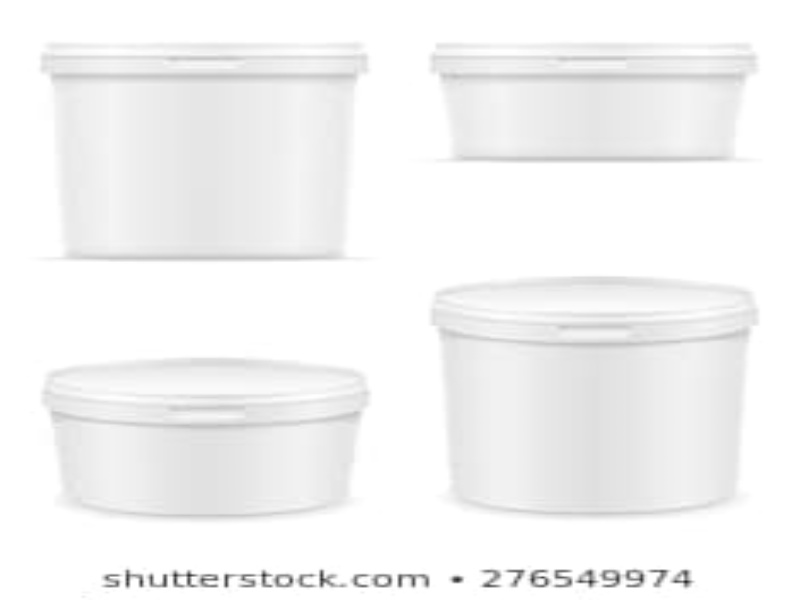plastic-container: (421, 271, 783, 521), (35, 34, 379, 273), (39, 356, 382, 520), (424, 37, 774, 175)
